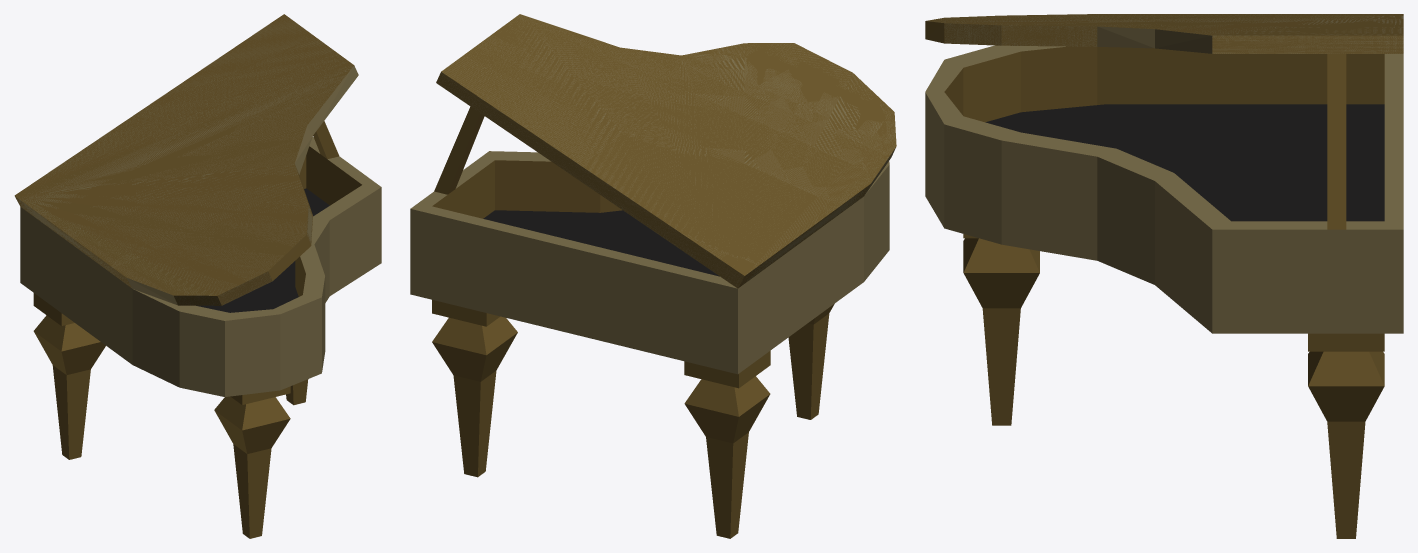
Rendered from obj_piano_1_0.obj.
3 renders of one model, left to right at view 1: azimuth 30°, elevation 25°; view 2: azimuth 150°, elevation 25°; view 3: azimuth 270°, elevation 25°, orthographic. The views are drawn at different scales.
Bounding box in the file's own units: 1.53 × 1.82 × 1.56.
